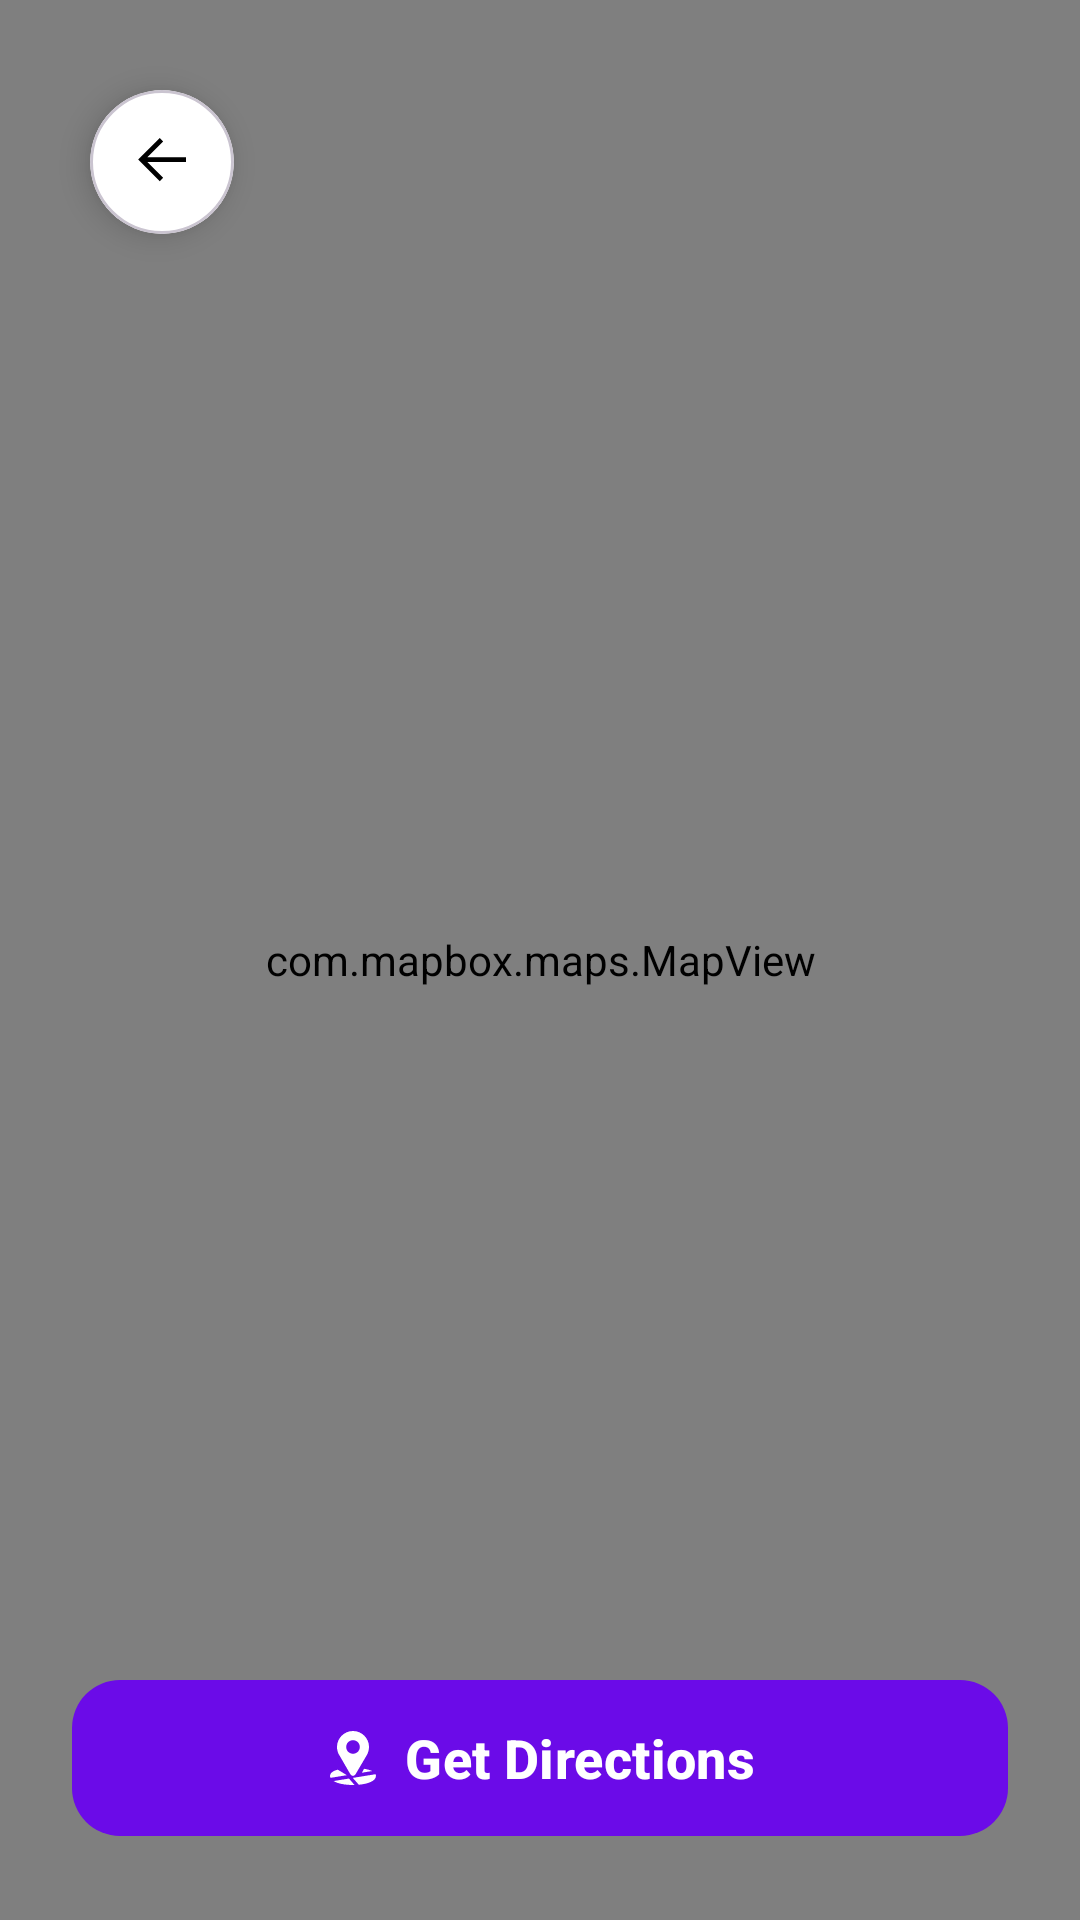

Where icons sit on this 1080w x 1920h app screen, as Rect(x1, y1, x2, y2):
back arrow: Rect(90, 90, 234, 234)
